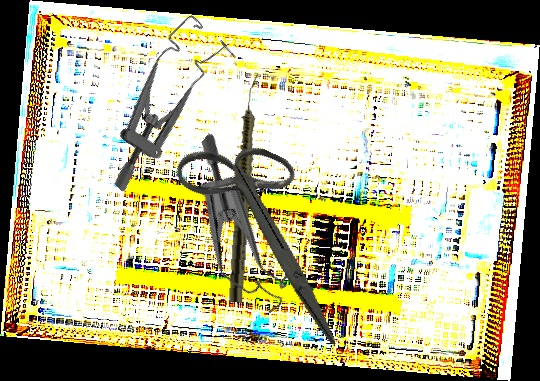Handpiece: (227, 73, 262, 303)
Iris Scissors: (137, 118, 399, 345)
Speculum: (143, 131, 357, 331), (67, 11, 249, 194)
